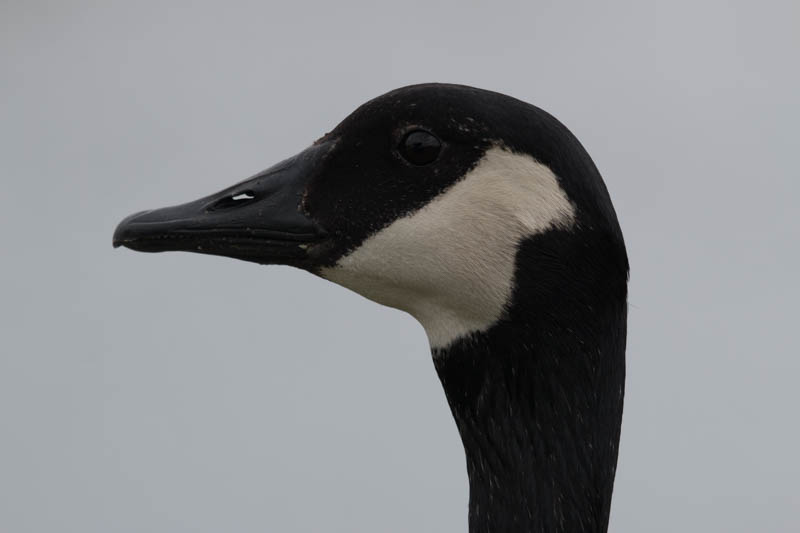goose-head: (112, 83, 629, 351)
